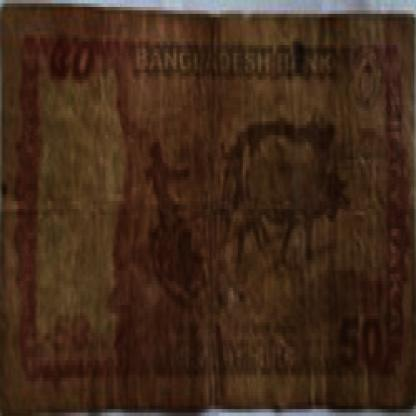Fifty taka: (323, 294, 399, 385), (43, 38, 98, 108)
